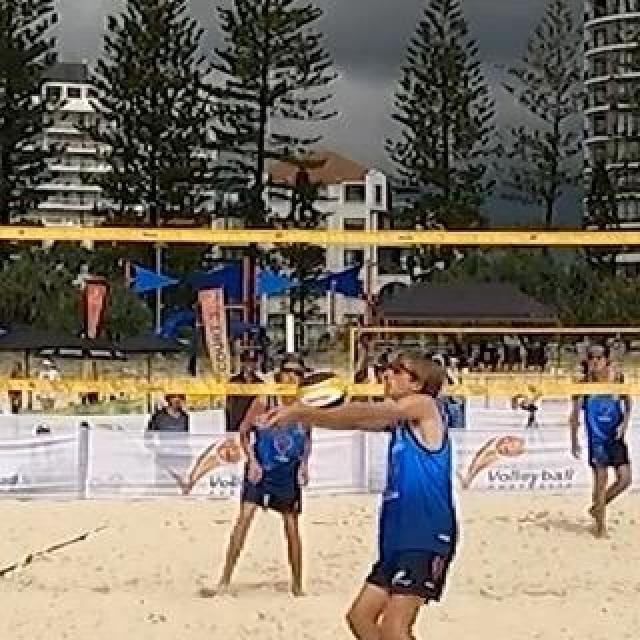volleyball: (296, 368, 348, 414)
